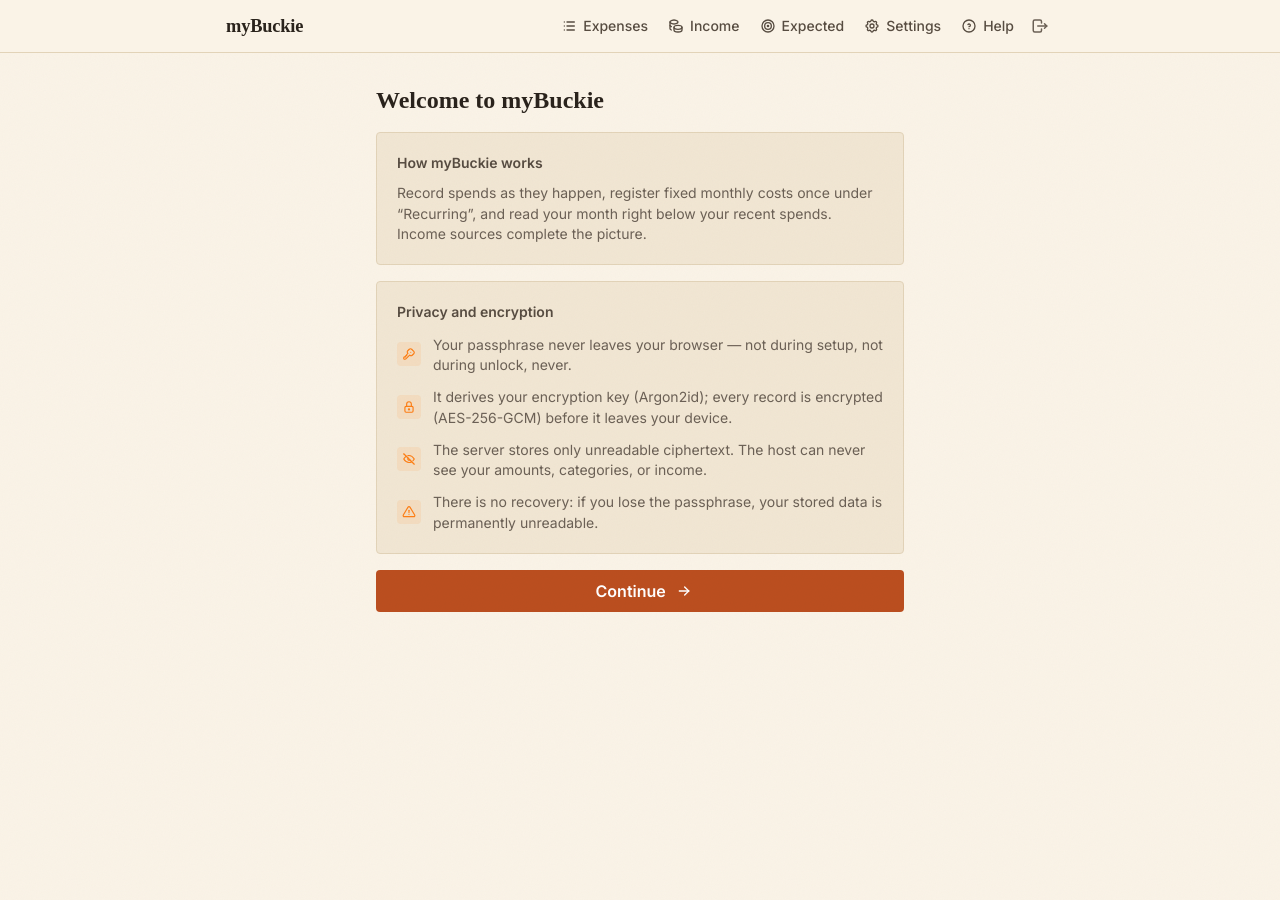
Test case: Two-stage onboarding (BA-DS-006, TICKET-021) › skip lands on the hub with the income-setup card
The image size is (1280, 900).
Expected: the element named "onboarding" is shown, [376,87,904,612]
Click the button "Continue" at (640, 591), box [376,570,904,612]
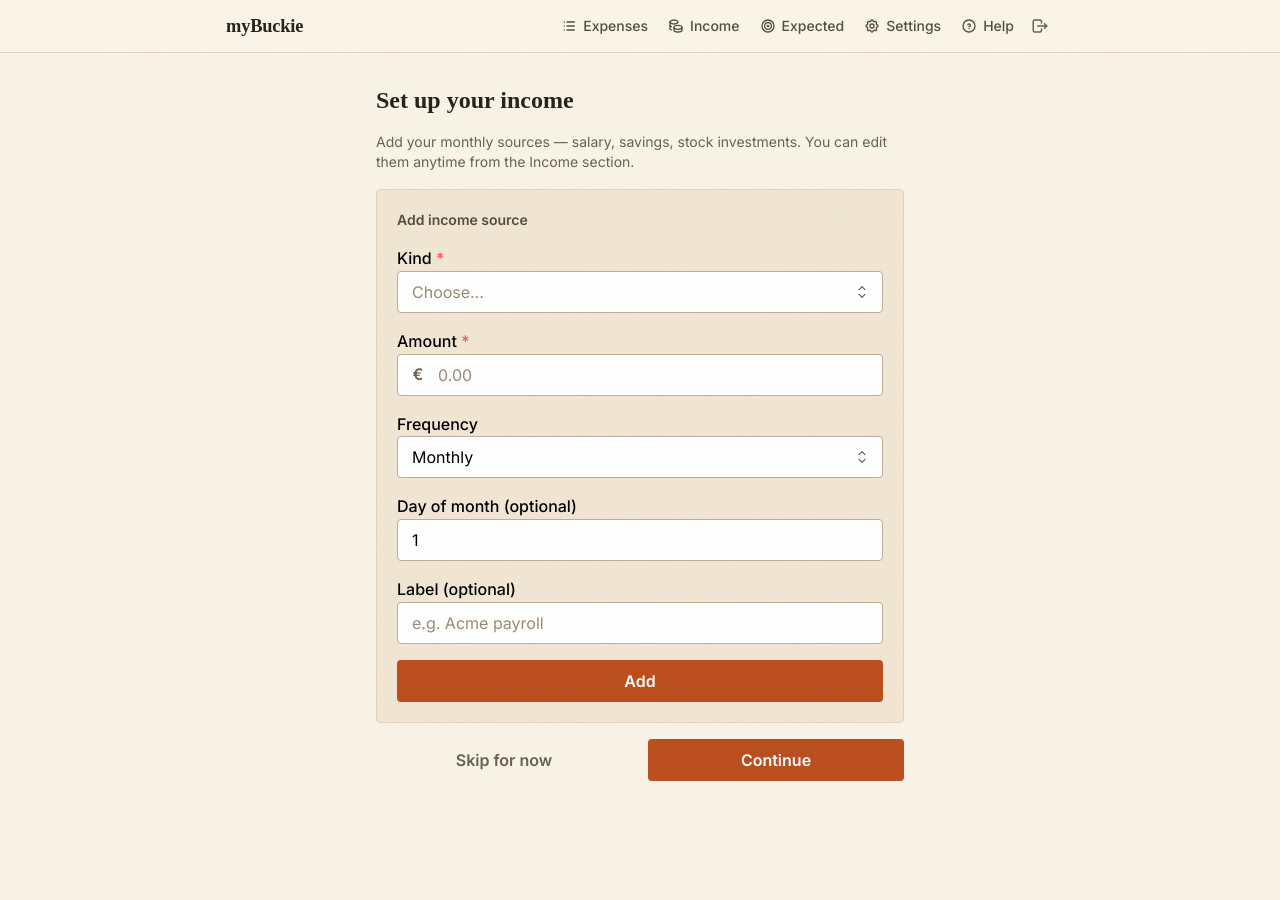
Click the button "Skip for now" at (504, 760), box [376,739,632,781]
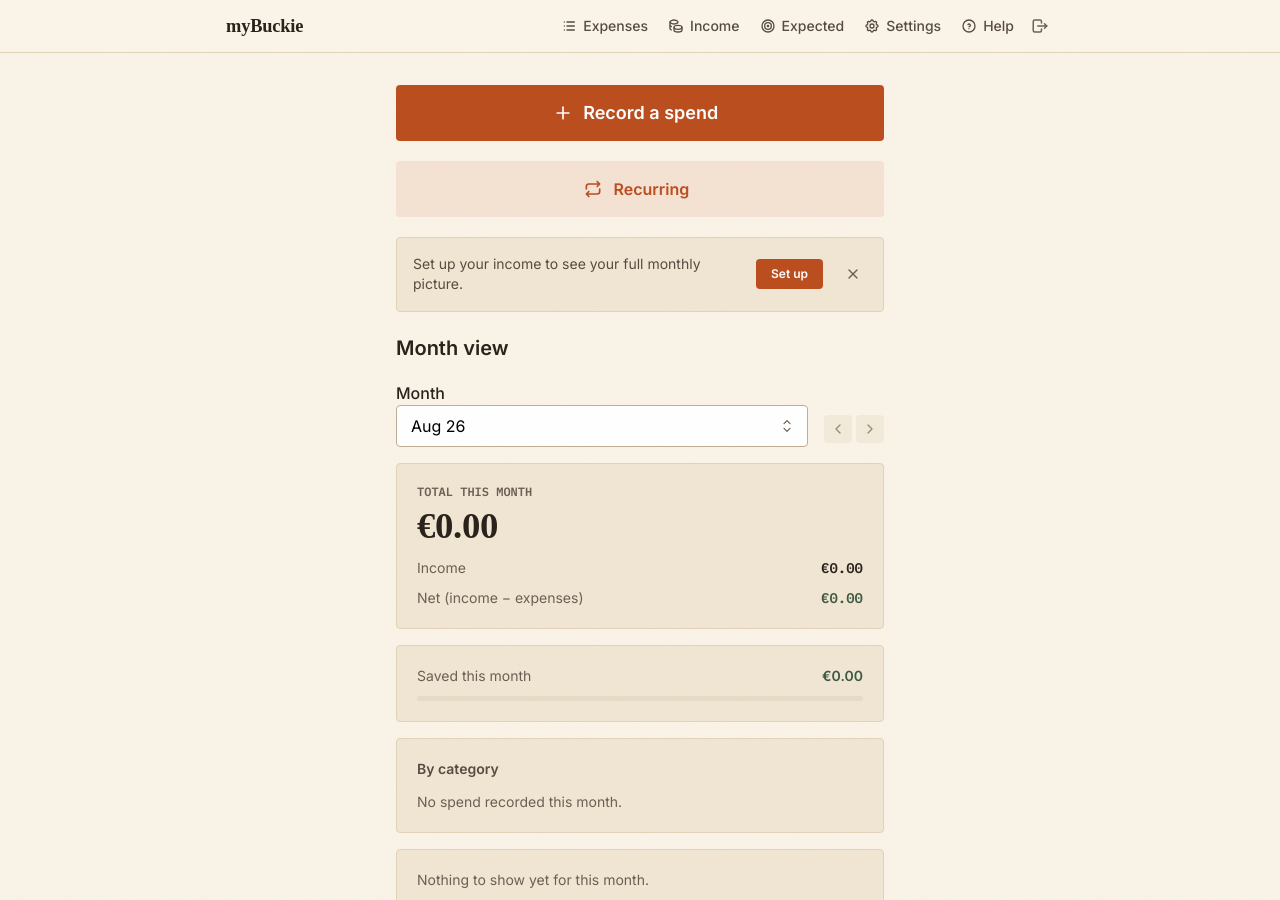
Expected: the button "Set up" is shown, [756,259,823,289]
